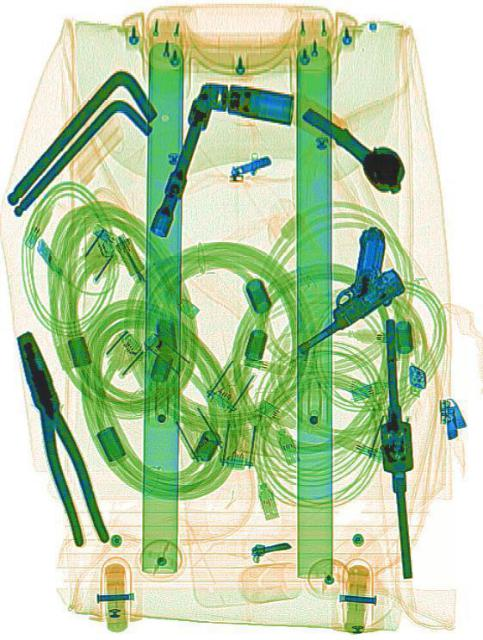Gun: (270, 219, 405, 355)
Pliers: (8, 322, 106, 552)
